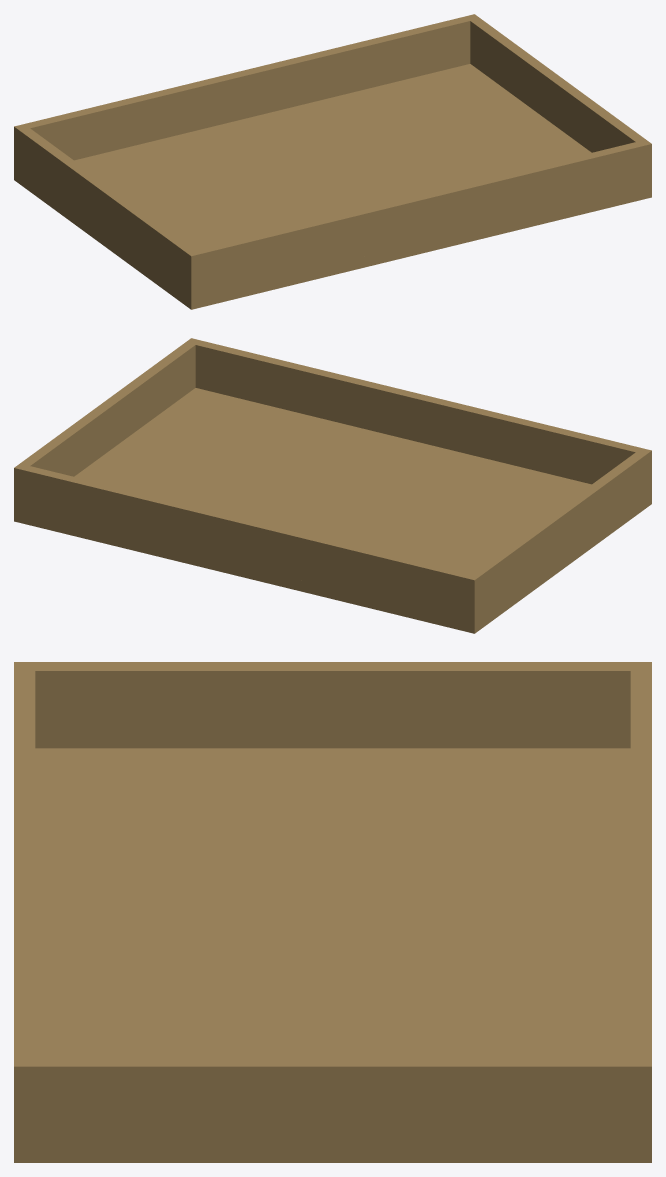
The model's file is CAL-TRY-std.glb.
The picture shows the model from 3 angles, top to bottom: view 1: azimuth 30°, elevation 25°; view 2: azimuth 150°, elevation 25°; view 3: azimuth 270°, elevation 25°; orthographic projection. The views are drawn at different scales.
Visible parts, largest first — view 1: CAL-TRY-std; view 2: CAL-TRY-std; view 3: CAL-TRY-std.
Boxes of the visible parts, bbox=[...] form: CAL-TRY-std: bbox=[14, 14, 651, 309]; CAL-TRY-std: bbox=[14, 338, 651, 633]; CAL-TRY-std: bbox=[14, 662, 651, 1162].
Bounding box in the file's own units: 0.45 × 0.05 × 0.3.
